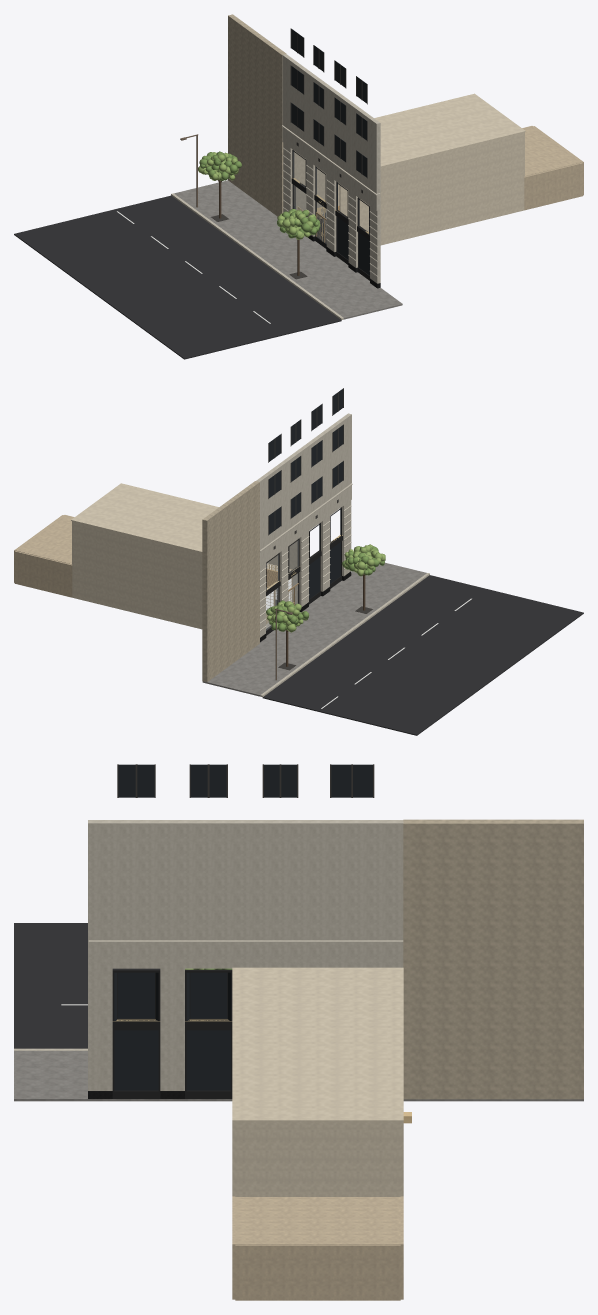
File: onodera.glb
3 views of the same model, one above another, from view 1: azimuth 30°, elevation 25°; view 2: azimuth 150°, elevation 25°; view 3: azimuth 270°, elevation 25° (orthographic). The views are drawn at different scales.
Visible parts, largest first — view 1: Street, Cutaway_wall_south, Neighbour_N_wall, Sidewalk, Ceiling_plaster, Facade_upper, Facade_office_windows, Cutaway_kitchen_wall_s, Ceiling_kitchen, Facade_band, Facade_office_mullions, Wall_north (+10 smaller); view 2: Street, Wall_north, Neighbour_N_wall, Sidewalk, Ceiling_plaster, Facade_upper, Facade_office_windows, Kitchen_wall_n, Ceiling_kitchen, Facade_band, Facade_office_mullions, Curb (+9 smaller); view 3: Neighbour_N_wall, Facade_upper, Ceiling_plaster, Kitchen_wall_back, Street, Facade_band, Ceiling_kitchen, Wall_east.002, Facade_office_windows, Sidewalk, Facade_pier_3, Facade_pier_4 (+12 smaller).
Part boxes in pixels (x1=…): Street: x1=14, y1=195, x2=341, y2=359; Cutaway_wall_south: x1=339, y1=132, x2=524, y2=245; Neighbour_N_wall: x1=228, y1=14, x2=286, y2=216; Sidewalk: x1=174, y1=180, x2=402, y2=319; Ceiling_plaster: x1=374, y1=93, x2=525, y2=166; Facade_upper: x1=282, y1=54, x2=380, y2=193; Facade_office_windows: x1=291, y1=29, x2=366, y2=177; Cutaway_kitchen_wall_s: x1=524, y1=162, x2=583, y2=210; Ceiling_kitchen: x1=523, y1=126, x2=582, y2=176; Facade_band: x1=282, y1=127, x2=380, y2=210; Facade_office_mullions: x1=290, y1=28, x2=367, y2=178; Wall_north: x1=294, y1=151, x2=339, y2=210; Street: x1=262, y1=575, x2=583, y2=735; Wall_north: x1=72, y1=521, x2=202, y2=629; Neighbour_N_wall: x1=202, y1=481, x2=259, y2=681; Sidewalk: x1=202, y1=562, x2=426, y2=696; Ceiling_plaster: x1=71, y1=483, x2=218, y2=552; Facade_upper: x1=256, y1=413, x2=351, y2=549; Facade_office_windows: x1=269, y1=389, x2=343, y2=534; Kitchen_wall_n: x1=14, y1=551, x2=72, y2=597; Ceiling_kitchen: x1=15, y1=515, x2=73, y2=564; Facade_band: x1=260, y1=485, x2=351, y2=566; Facade_office_mullions: x1=268, y1=388, x2=343, y2=535; Curb: x1=260, y1=573, x2=429, y2=697; Neighbour_N_wall: x1=403, y1=819, x2=583, y2=1099; Facade_upper: x1=88, y1=820, x2=403, y2=940; Ceiling_plaster: x1=232, y1=967, x2=403, y2=1121; Kitchen_wall_back: x1=235, y1=1244, x2=400, y2=1300; Street: x1=14, y1=923, x2=160, y2=1048; Facade_band: x1=88, y1=942, x2=403, y2=968; Ceiling_kitchen: x1=235, y1=1197, x2=400, y2=1244; Wall_east.002: x1=263, y1=1121, x2=366, y2=1196; Facade_office_windows: x1=118, y1=764, x2=372, y2=797; Sidewalk: x1=14, y1=1051, x2=583, y2=1101; Facade_pier_3: x1=160, y1=968, x2=184, y2=1090; Facade_pier_4: x1=88, y1=968, x2=112, y2=1090.
Size of the model in its own units: 47.35 by 19.47 by 30.
Materials: 50 (16 with a texture image).
